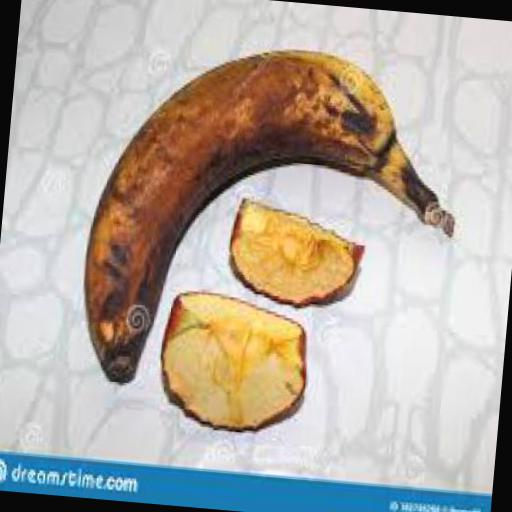biodegradable: (74, 32, 468, 408), (153, 284, 314, 435), (224, 195, 366, 308)
